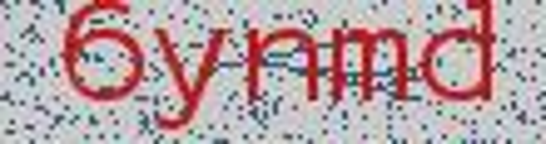6: (59, 1, 147, 114)
d: (415, 1, 507, 116)
m: (326, 16, 413, 113)
n: (239, 16, 321, 117)
y: (149, 17, 231, 135)
